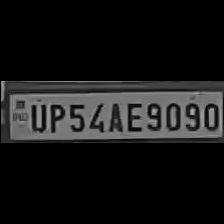0: (200, 100, 220, 130), (162, 99, 180, 131)
4: (85, 98, 105, 132)
5: (64, 100, 86, 132)
9: (142, 99, 162, 131), (180, 99, 200, 131)
A: (104, 100, 124, 132)
E: (122, 98, 144, 132)
P: (45, 100, 63, 134)
U: (25, 100, 45, 132)
